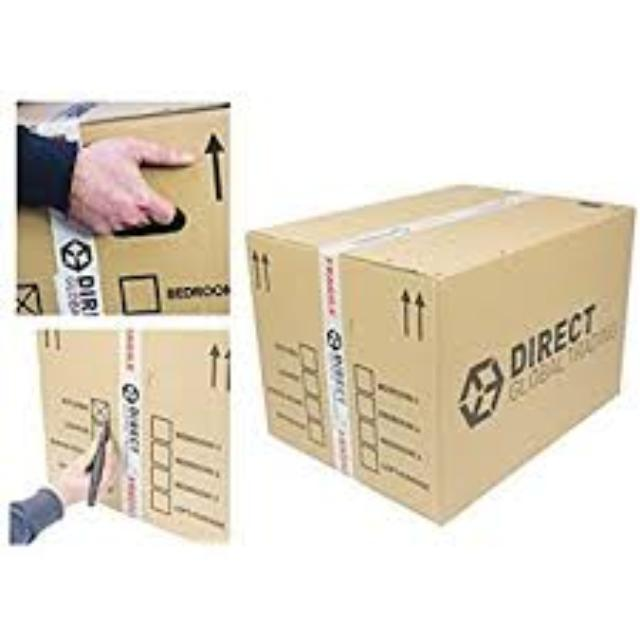cardboard paper: (247, 182, 629, 515), (14, 100, 225, 310), (37, 327, 222, 535)
